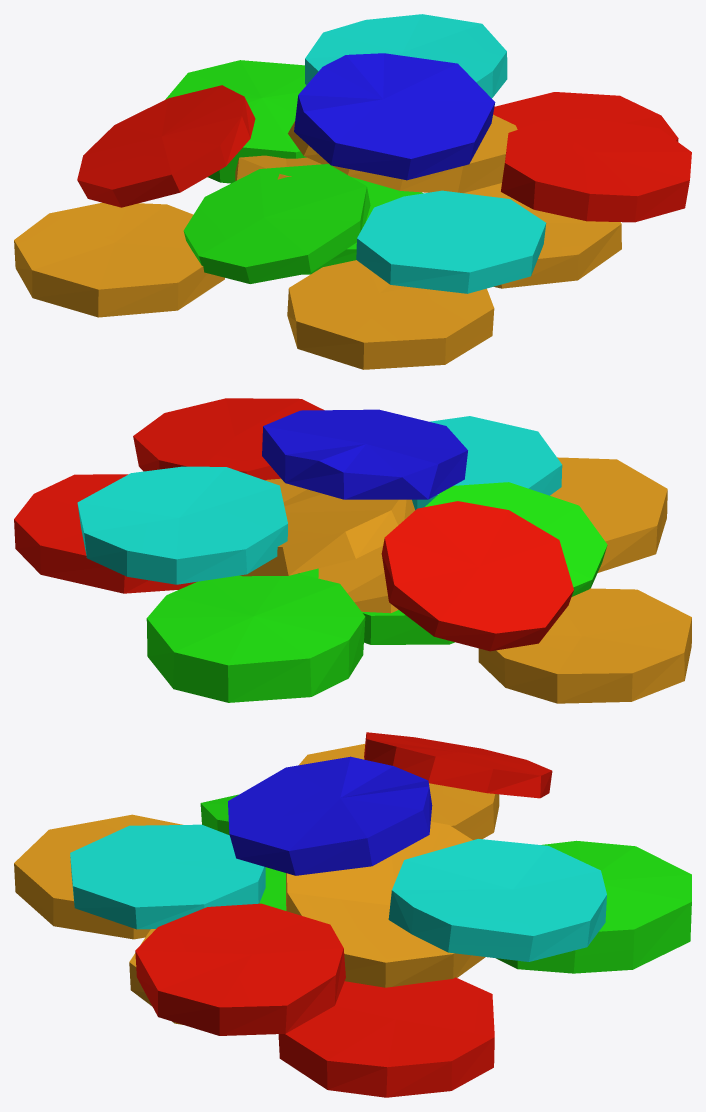
The model's file is Fichas.fbx.
The picture shows the model from 3 angles, top to bottom: view 1: azimuth 30°, elevation 25°; view 2: azimuth 150°, elevation 25°; view 3: azimuth 270°, elevation 25°; orthographic projection. The views are drawn at different scales.
Parts seen in each view (by area): view 1: Fichas; view 2: Fichas; view 3: Fichas.
Boxes of the visible parts, left/top/right/bottom form: Fichas: left=14, top=14, right=691, bottom=369; Fichas: left=14, top=398, right=691, bottom=703; Fichas: left=14, top=732, right=691, bottom=1097.
Size of the model in its own units: 1 by 0.2236 by 0.873.
